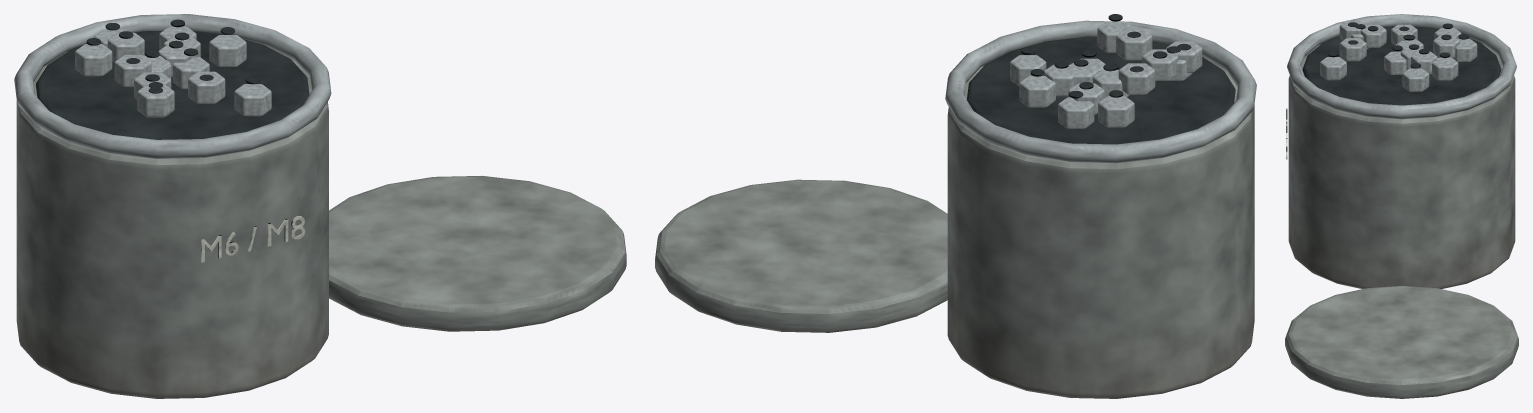
The model's file is GR_FastenerPot_04.glb.
3 views of the same model, side by side, from view 1: azimuth 30°, elevation 25°; view 2: azimuth 150°, elevation 25°; view 3: azimuth 270°, elevation 25° (orthographic). The views are drawn at different scales.
Parts seen in each view (by area): view 1: Static; view 2: Static; view 3: Static.
Part boxes in pixels (box(x1,y1,x2,y2)): Static: box(14, 14, 626, 398); Static: box(655, 14, 1256, 398); Static: box(1285, 14, 1518, 398).
Size of the model in its own units: 0.273 by 0.1305 by 0.134.
Materials: 1 (1 with a texture image).
